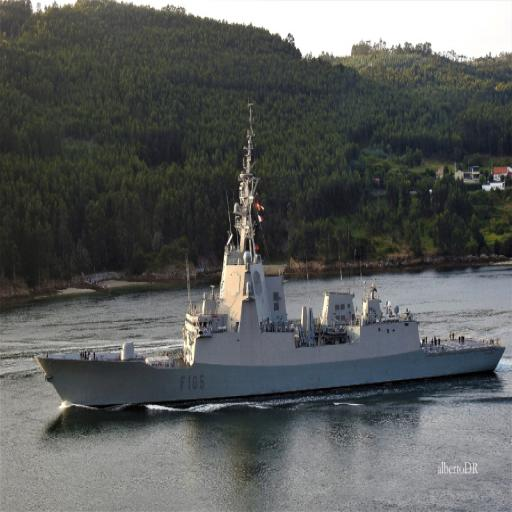Fragata: (34, 103, 505, 421)
